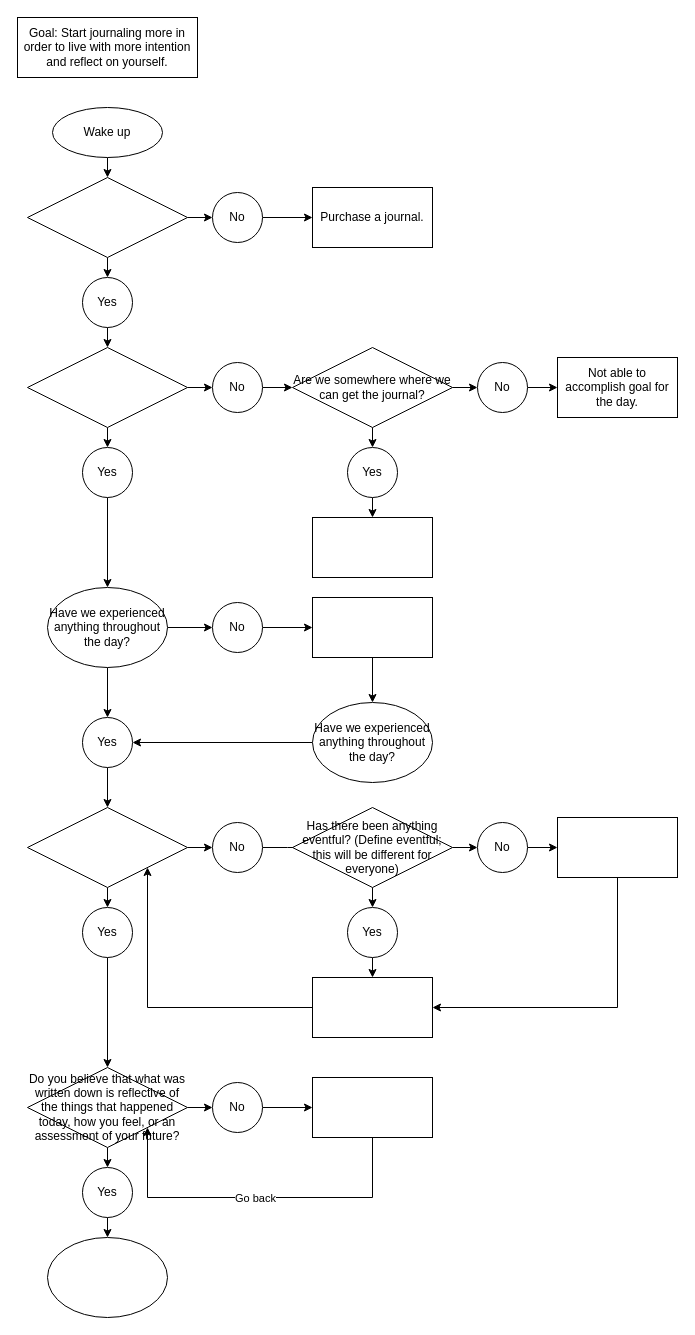
The diagram is 695 pixels wide and 1335 high, and some of its shapes have lost their labels. Each missing label, with the centre of its shape:
Continue with your day.: (372,627)
Do we have a journal?: (107,217)
Do you have the journal with you?: (107,387)
Even the most mundane of thoughts are significant. Write that down.: (617,847)
Get the journal: (372,547)
Goal accomplished for the day.: (107,1277)
Have we written anything down? (Assuming that it is the end of the day): (107,847)
Write something else down.: (372,1107)
Write that down.: (372,1007)
